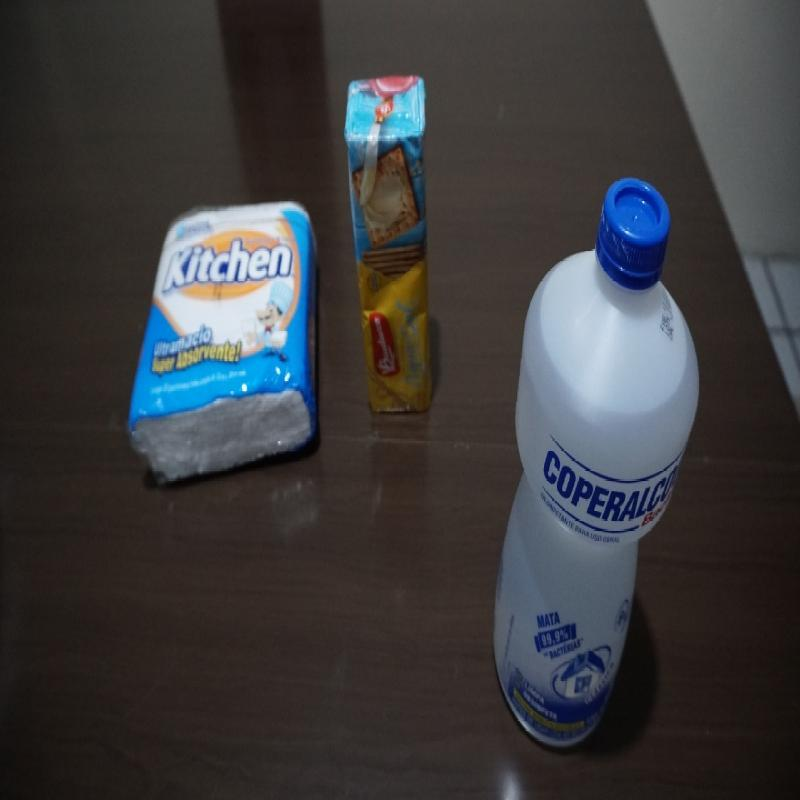Alcohol Bottle: (492, 181, 704, 744)
Cracker: (345, 79, 432, 419)
Napkin: (127, 202, 319, 486)
